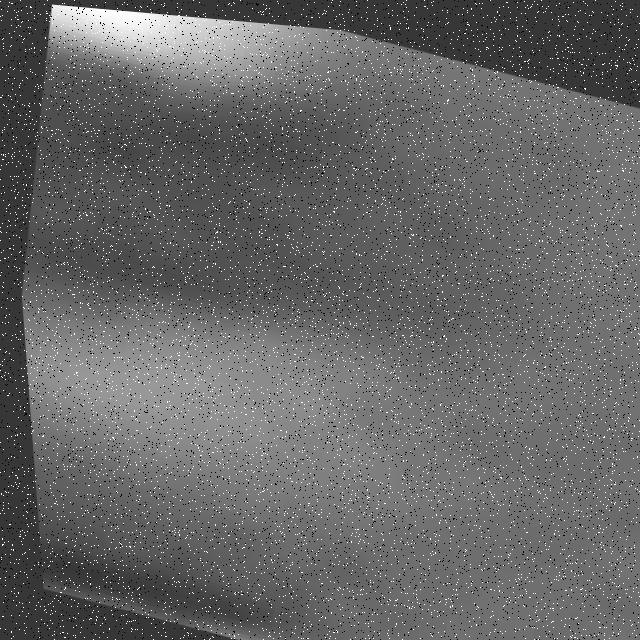person: (17, 273, 502, 554), (42, 4, 404, 144)
